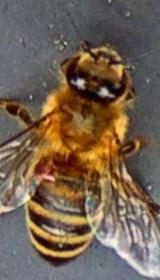varroa_mite: (28, 150, 62, 184)
